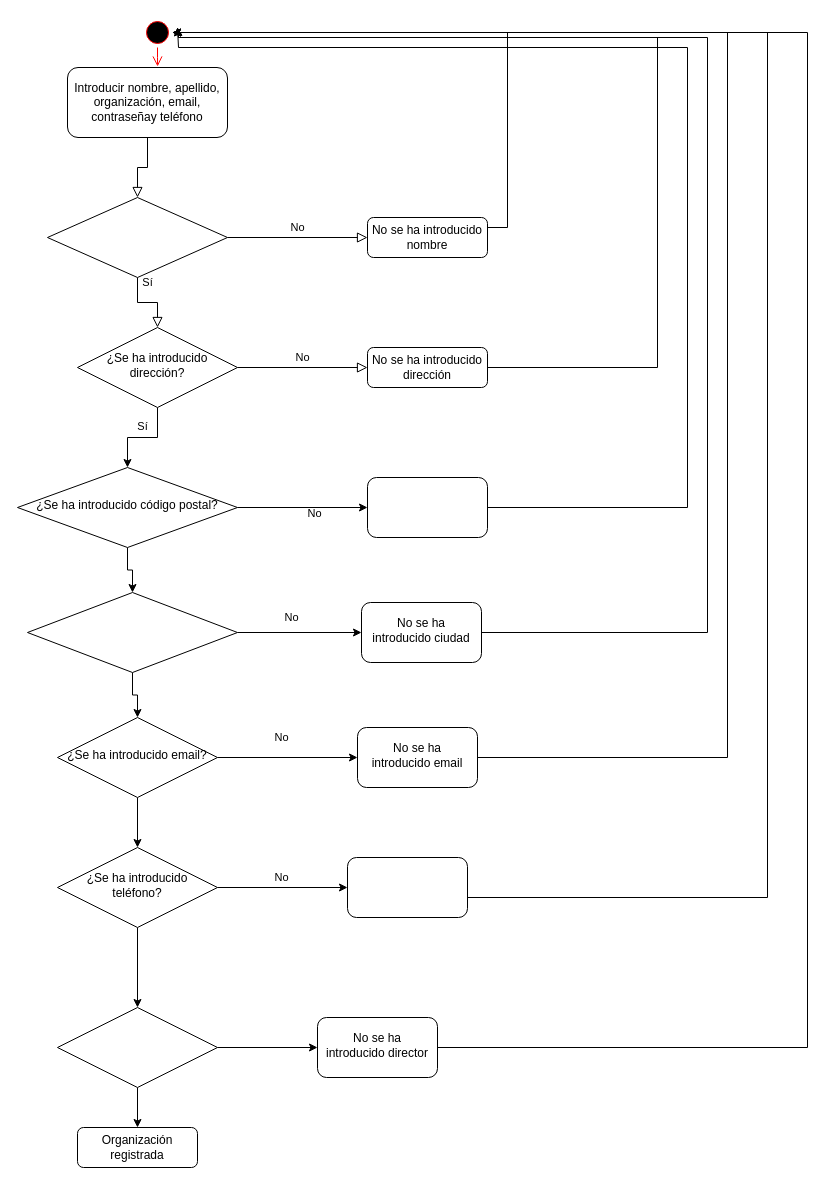
Some shapes in this 833 by 1185 pixel diagram are drawn without their labels. Here are the shapes that lost their labels. From the top down, the box of each, then its label:
(46, 196, 228, 278): ¿Se ha introducido nombre?
(366, 476, 488, 538): No se ha introducido código postal
(26, 592, 238, 672): ¿Se ha introducido ciudad?
(346, 856, 468, 918): No se ha introducido teléfono
(56, 1006, 218, 1088): ¿Se ha introducido director?
